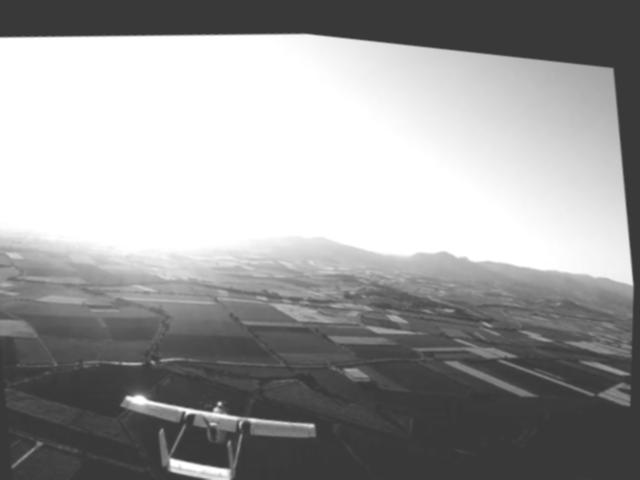hedef: (113, 353, 326, 480)
